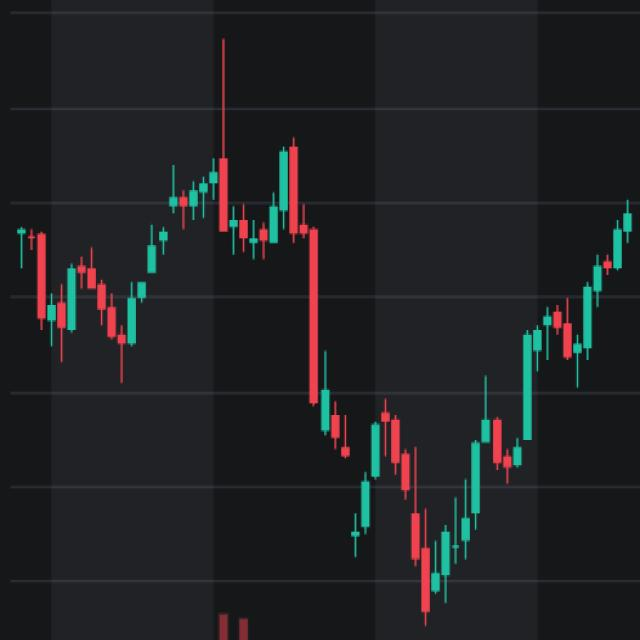Inverse-Head-Shoulders: (310, 222, 575, 615)
